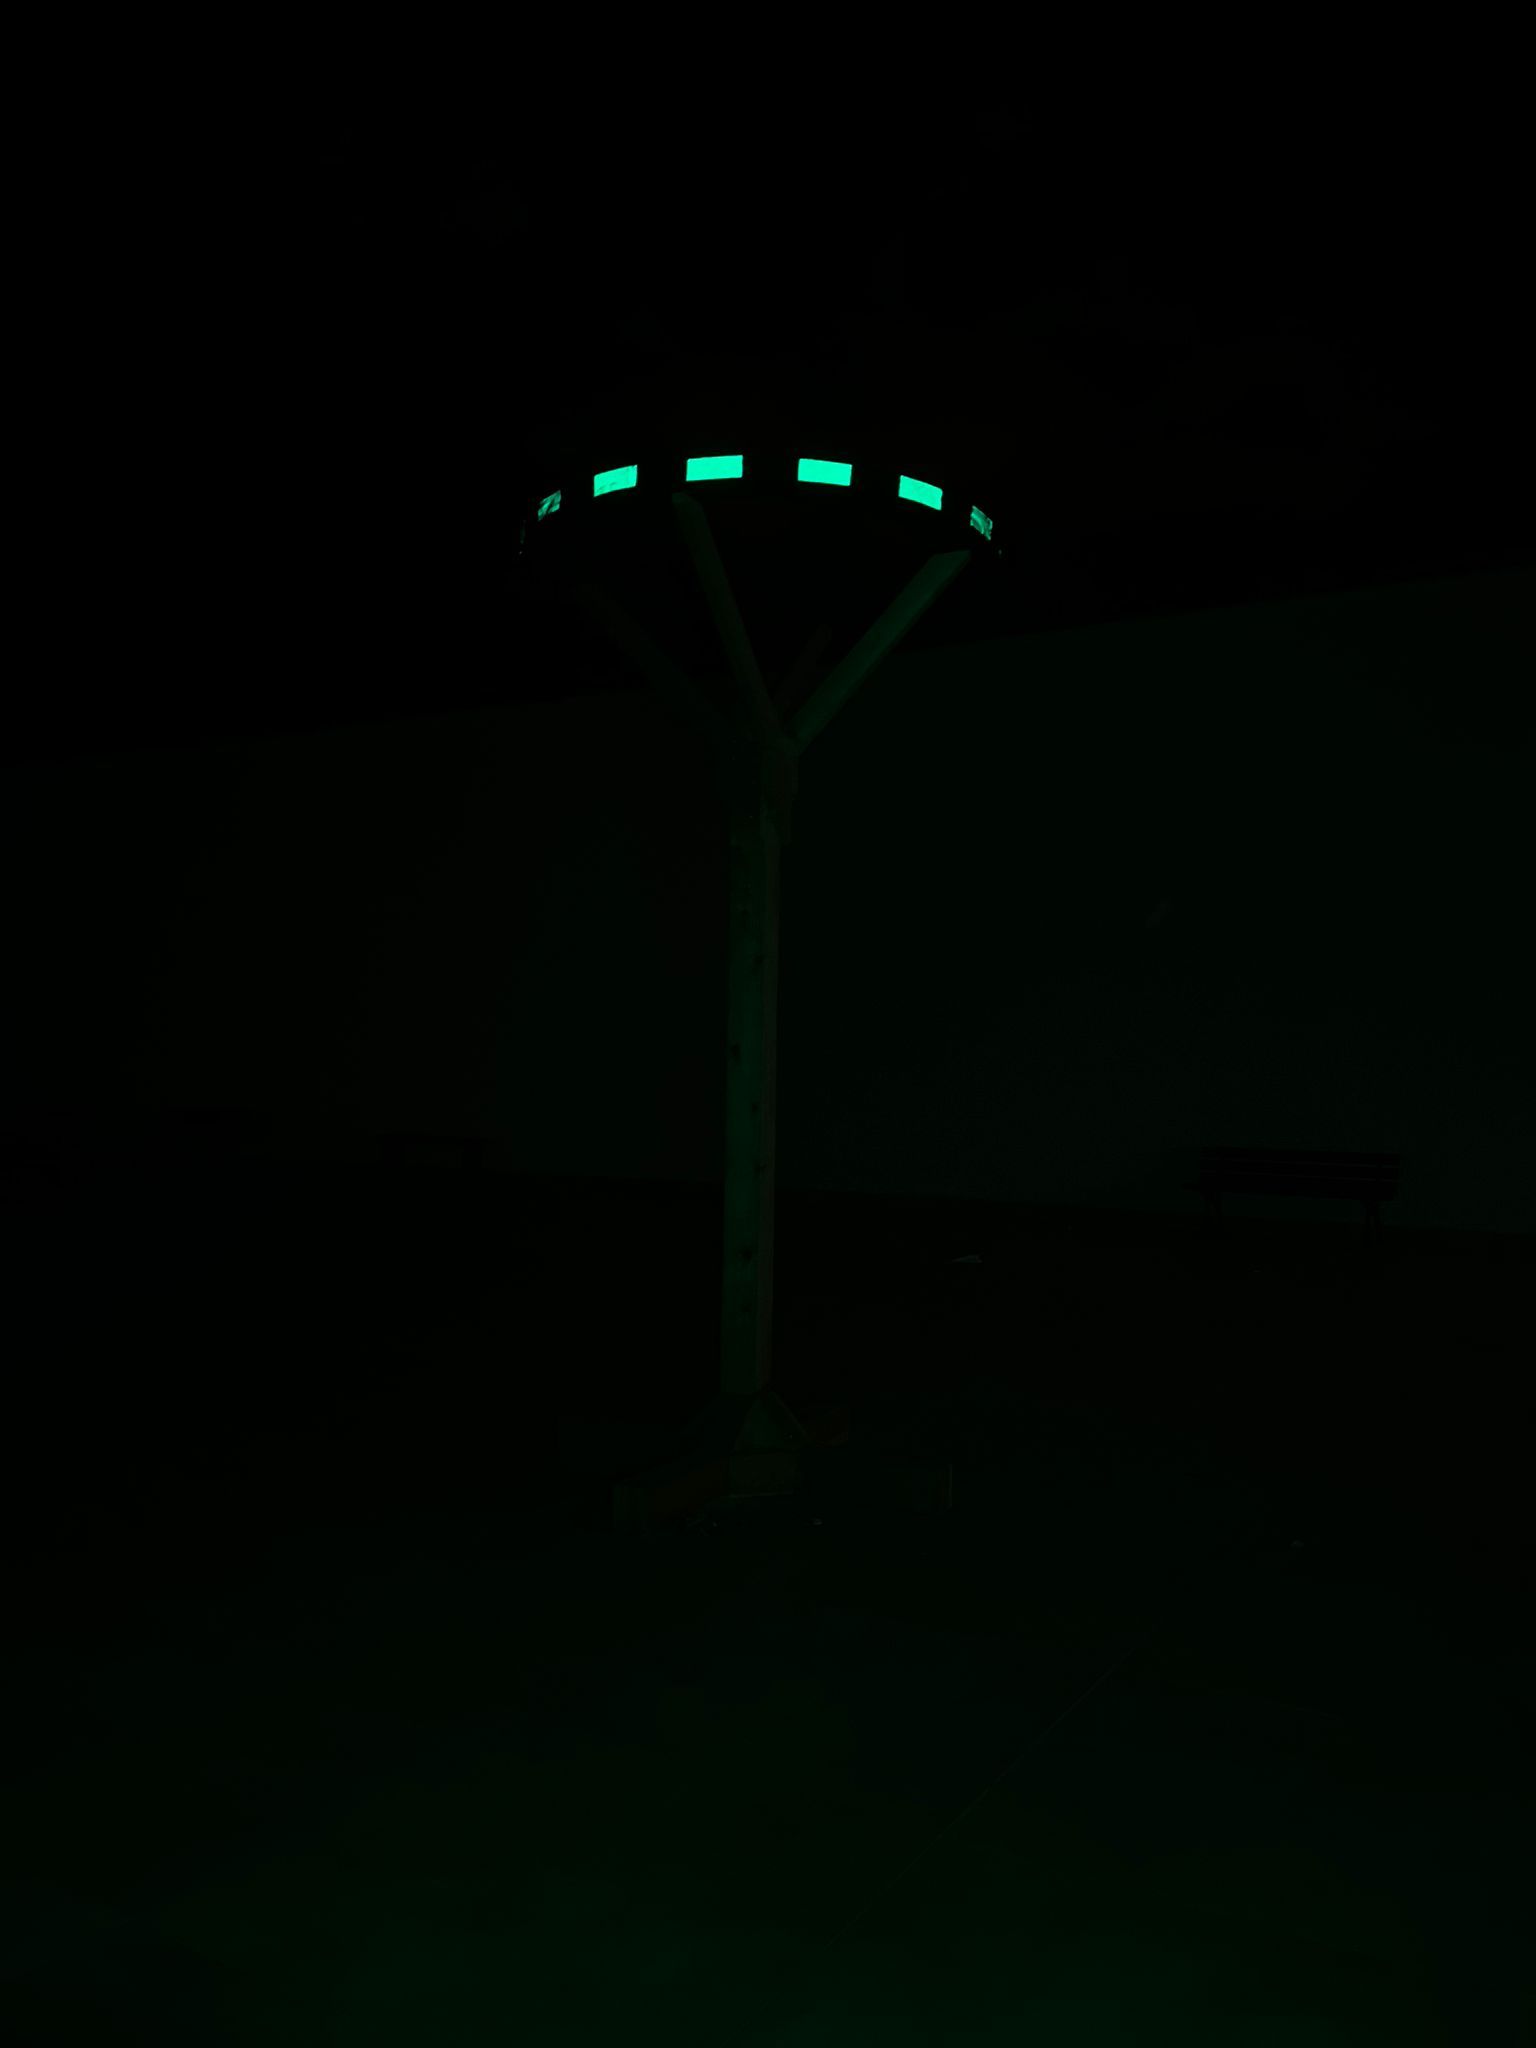hoop: (532, 456, 995, 552)
